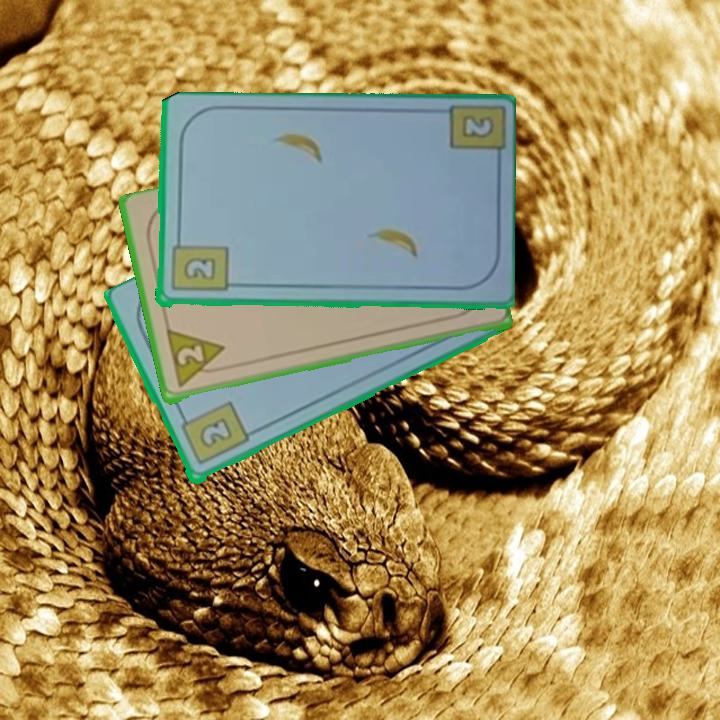2b: (176, 398, 252, 469), (168, 233, 229, 295), (461, 115, 493, 139)
2p: (162, 328, 230, 391)
